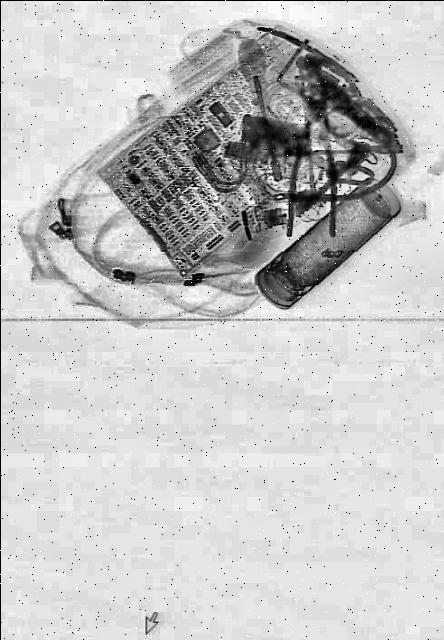Pliers: (284, 82, 340, 242)
